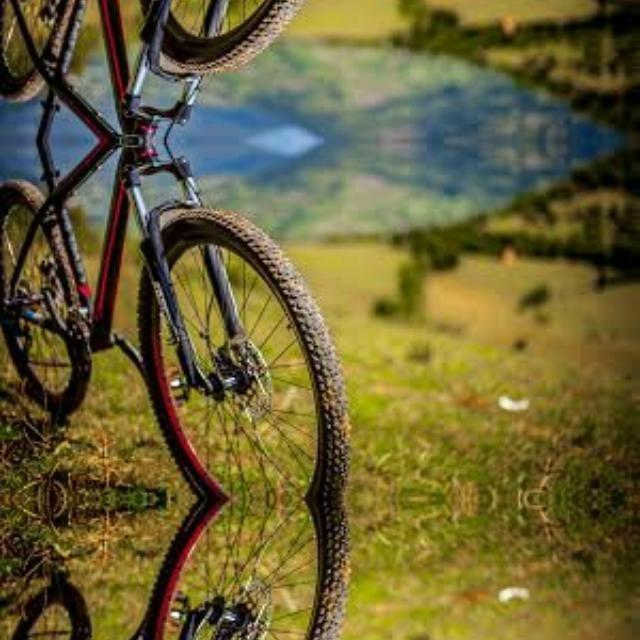obstacle: (1, 140, 360, 498), (0, 499, 359, 640), (0, 0, 359, 140)
